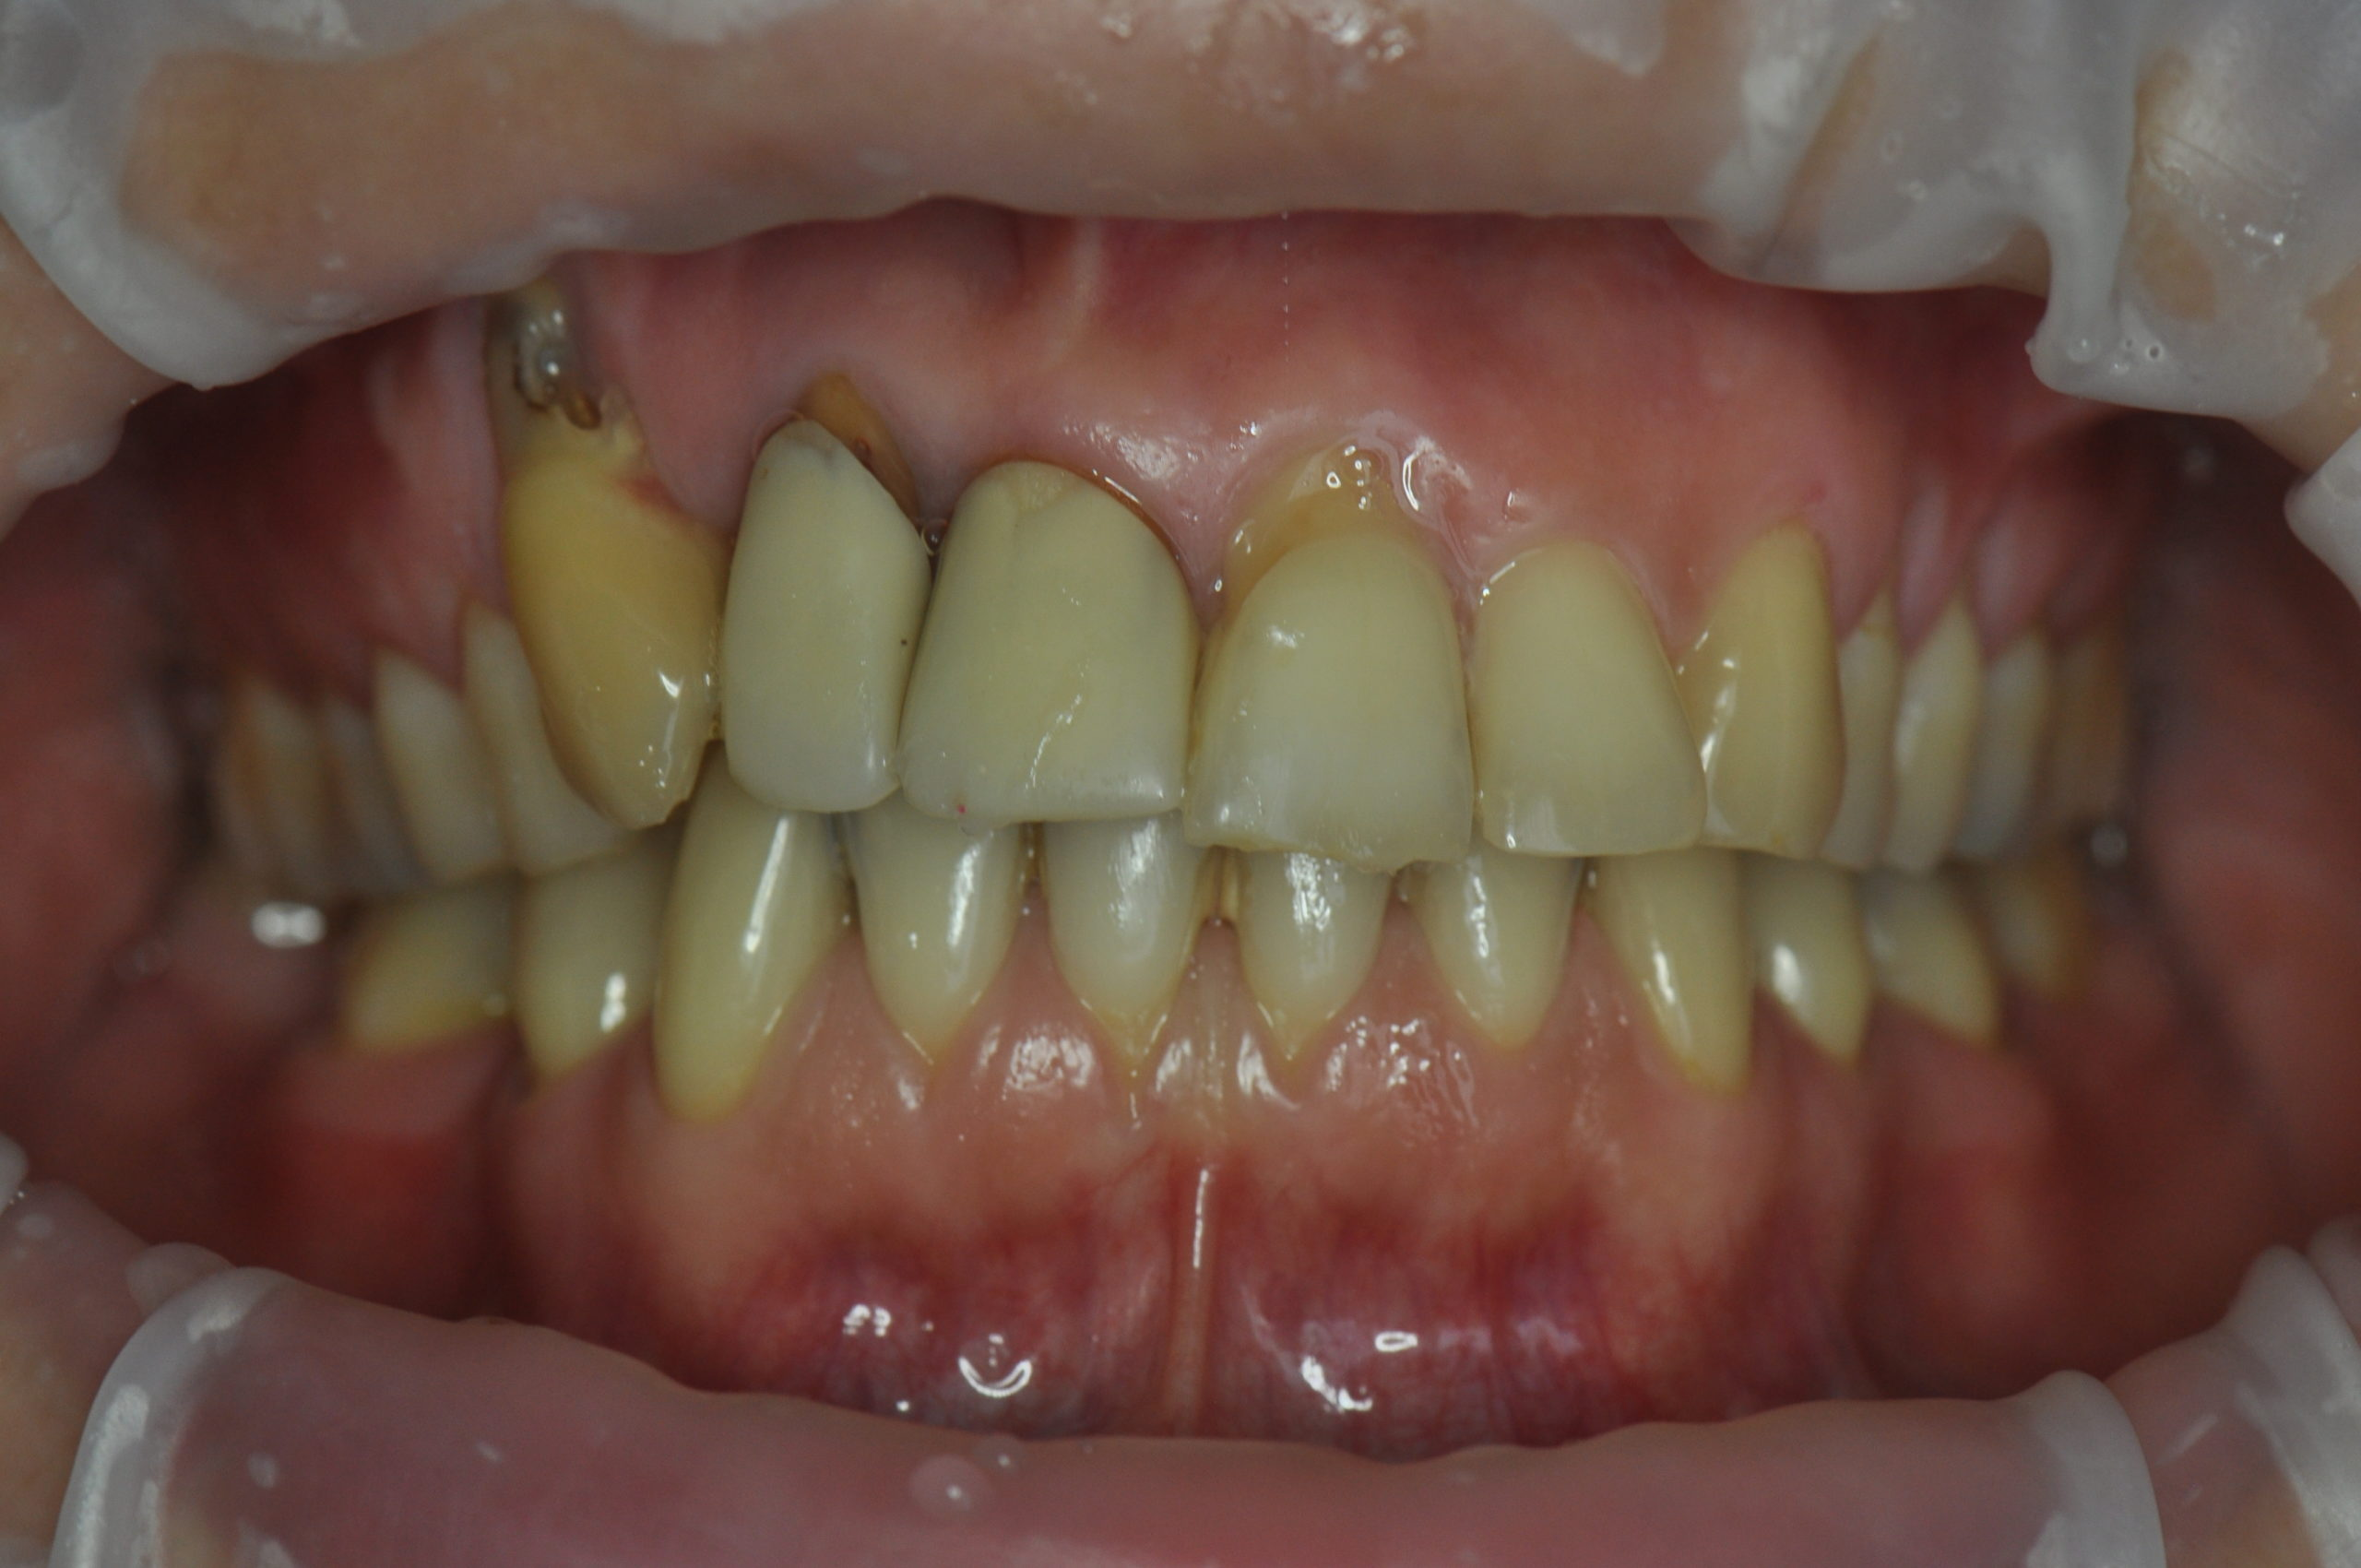LL1BC_healthy: (1747, 865, 1870, 1060)
LLCI_decay: (1221, 850, 1389, 1062)
LLC_healthy: (1598, 856, 1754, 1092)
LLLI_healthy: (1401, 856, 1588, 1038)
LR1BC_healthy: (518, 873, 656, 1076)
LRCI_healthy: (1048, 824, 1207, 1046)
LRC_healthy: (654, 808, 834, 1117)
LRLI_healthy: (839, 817, 1032, 1052)
UL1BC_healthy: (1842, 609, 1896, 868)
ULCI_decay: (1193, 511, 1473, 863)
ULC_decay: (1700, 534, 1843, 857)
ULLI_healthy: (1473, 548, 1709, 856)
UR1BC_decay: (469, 628, 600, 866)
UR1M_decay: (315, 684, 395, 905)
UR2BC_decay: (374, 644, 479, 884)
UR2M_decay: (247, 679, 325, 906)
URCI_decay: (906, 458, 1191, 828)
URC_decay: (500, 418, 717, 828)
URLI_decay: (721, 409, 922, 812)
